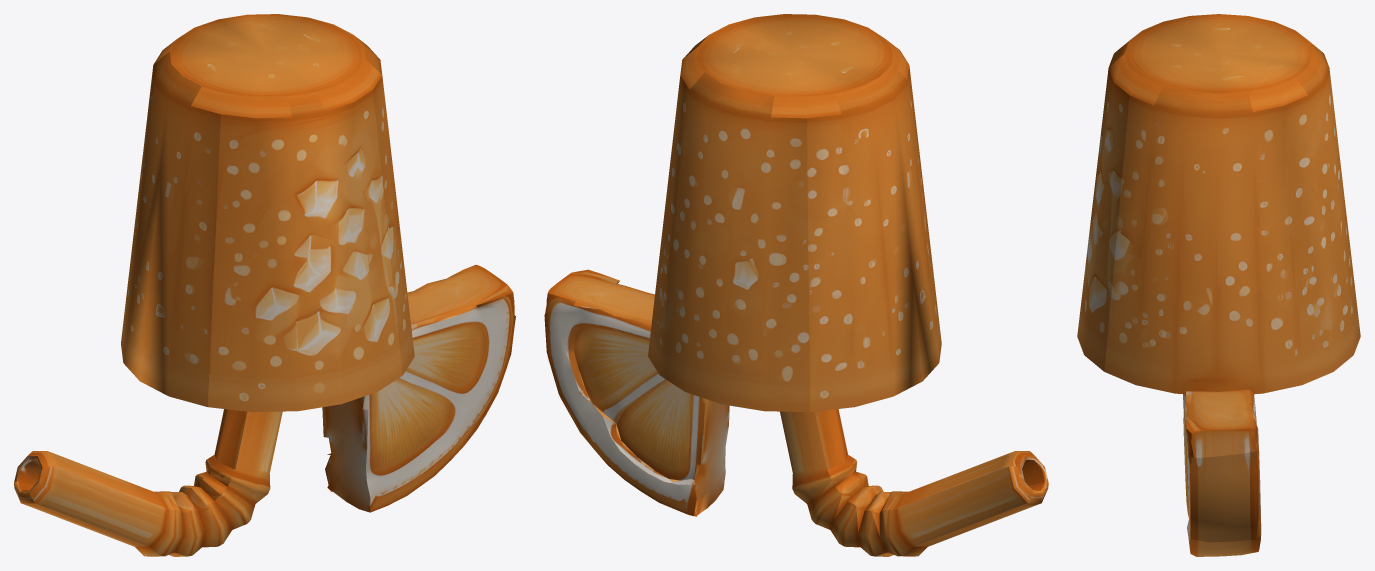
The model's file is Web_Smoothie_Orange.fbx.
The picture shows the model from 3 angles, left to right: view 1: azimuth 30°, elevation 25°; view 2: azimuth 150°, elevation 25°; view 3: azimuth 270°, elevation 25°; orthographic projection. The views are drawn at different scales.
Visible parts, largest first — view 1: 橙子; view 2: 橙子; view 3: 橙子.
Boxes of the visible parts, box(x1,y1,x2,y2) form: 橙子: box(14, 14, 515, 556); 橙子: box(544, 14, 1048, 556); 橙子: box(1077, 14, 1360, 556).
Bounding box in the file's own units: 94.53 × 89.45 × 50.01.
Materials: 1 (1 with a texture image).
